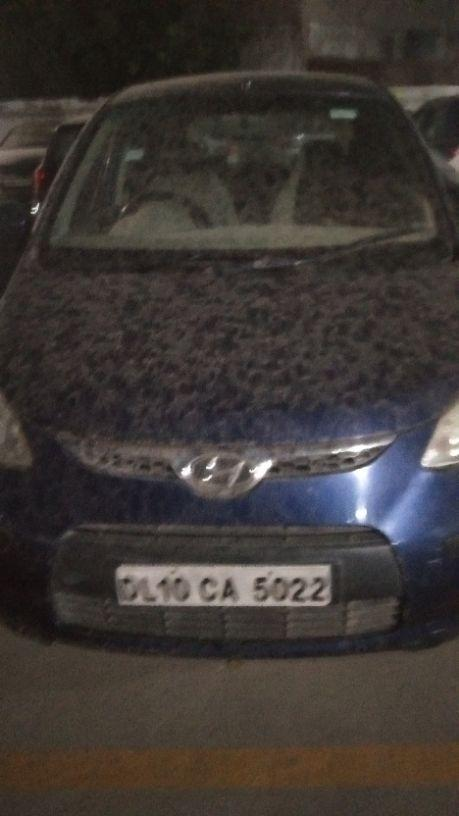license_plate: (48, 520, 405, 648), (112, 560, 335, 608)
